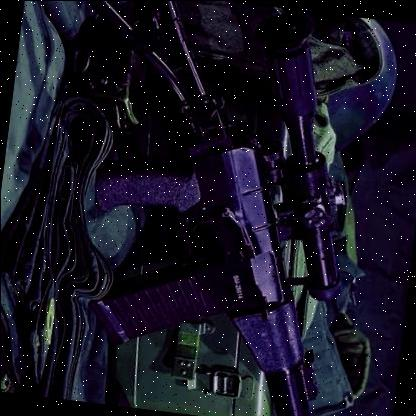rifle: (88, 1, 386, 416)
